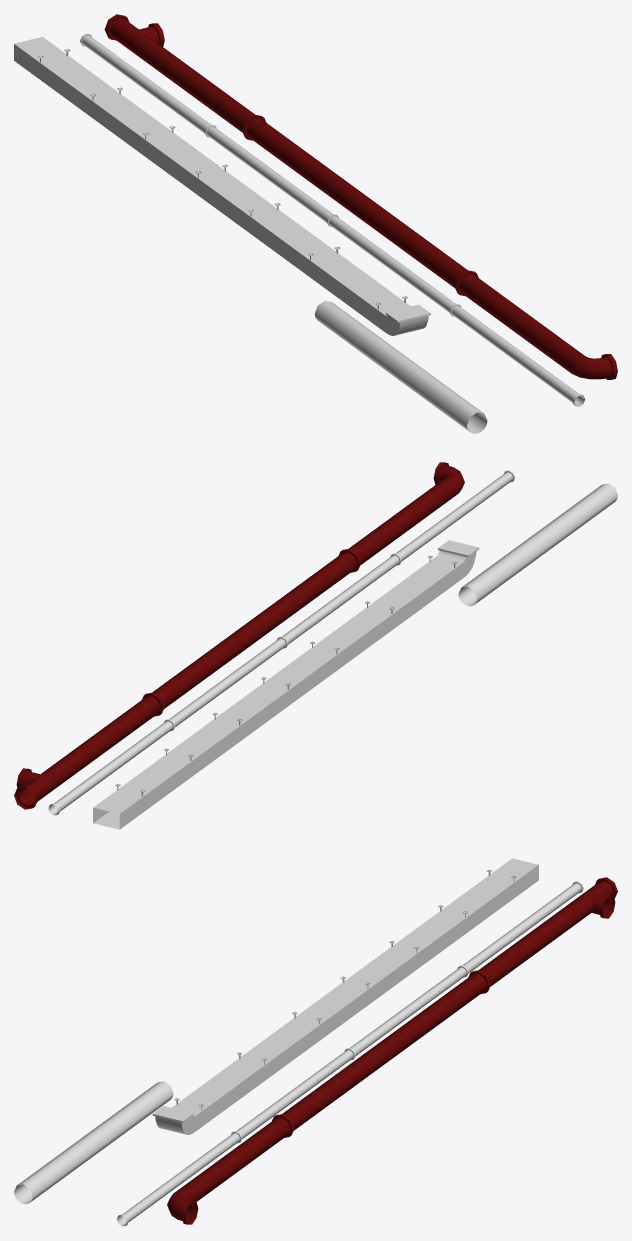
The model's file is SM_H_Building_Tide_Examinationroom_03A_ATLAS.fbx.
The picture shows the model from 3 angles, top to bottom: view 1: azimuth 30°, elevation 25°; view 2: azimuth 150°, elevation 25°; view 3: azimuth 330°, elevation 25°; orthographic projection. The views are drawn at different scales.
Parts seen in each view (by area): view 1: SM_H_Building_Tide_Examinationroom_03A_ATLAS; view 2: SM_H_Building_Tide_Examinationroom_03A_ATLAS; view 3: SM_H_Building_Tide_Examinationroom_03A_ATLAS.
Boxes of the visible parts, x1,y1,x2,y2 form: SM_H_Building_Tide_Examinationroom_03A_ATLAS: [14, 14, 617, 433]; SM_H_Building_Tide_Examinationroom_03A_ATLAS: [14, 462, 617, 829]; SM_H_Building_Tide_Examinationroom_03A_ATLAS: [14, 858, 617, 1226].
Bounding box in the file's own units: 349 × 1780 × 52.17.
